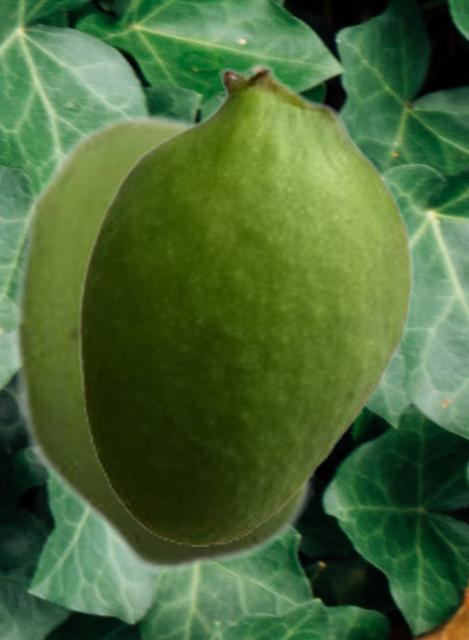green_mango: (77, 61, 413, 545), (11, 111, 318, 576)
